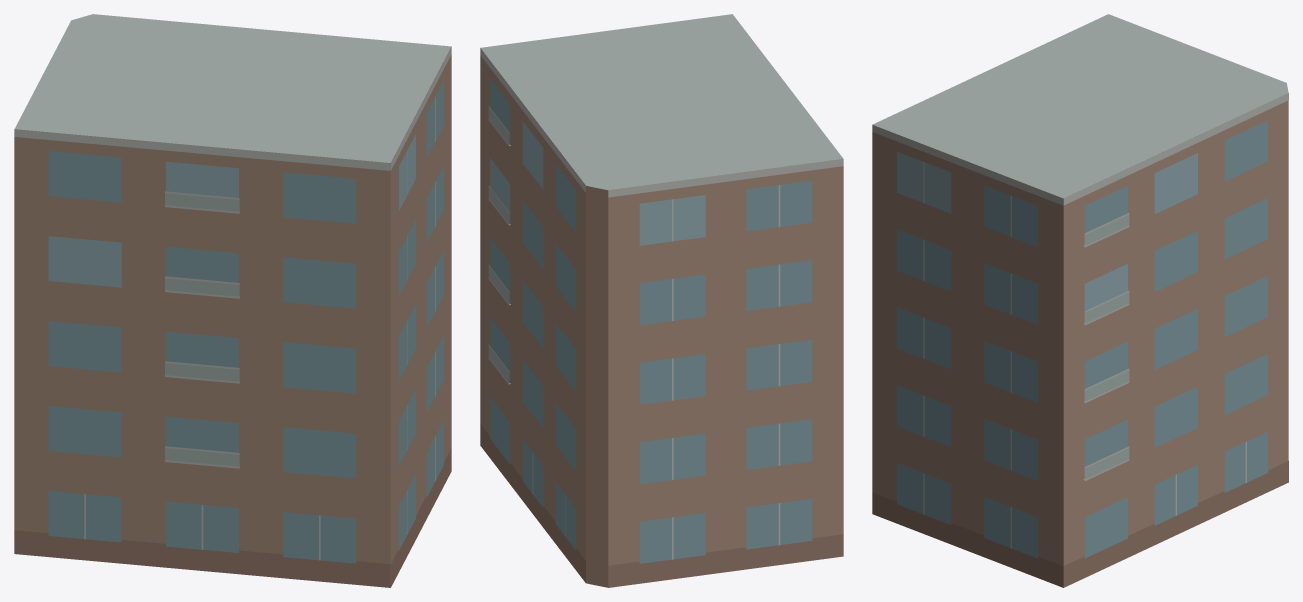
File: survey-upis-32649320.glb
3 renders of one model, left to right at view 1: azimuth 30°, elevation 25°; view 2: azimuth 150°, elevation 25°; view 3: azimuth 270°, elevation 25°, orthographic. The views are drawn at different scales.
Parts seen in each view (by area): view 1: survey-upis-32649320.tmp; view 2: survey-upis-32649320.tmp; view 3: survey-upis-32649320.tmp.
Boxes of the visible parts, bbox=[...] form: survey-upis-32649320.tmp: bbox=[14, 14, 451, 587]; survey-upis-32649320.tmp: bbox=[480, 14, 843, 587]; survey-upis-32649320.tmp: bbox=[872, 14, 1288, 587].
Bounding box in the file's own units: 13.53 × 13.3 × 12.9.
